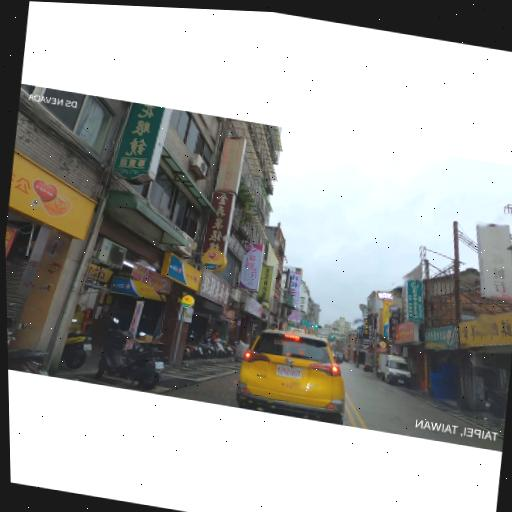Car: (229, 317, 358, 427), (372, 348, 417, 390)
